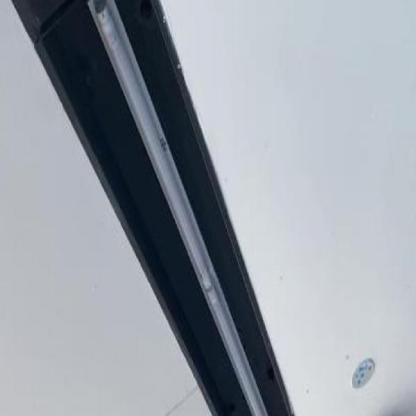light_off: (72, 0, 320, 415)
